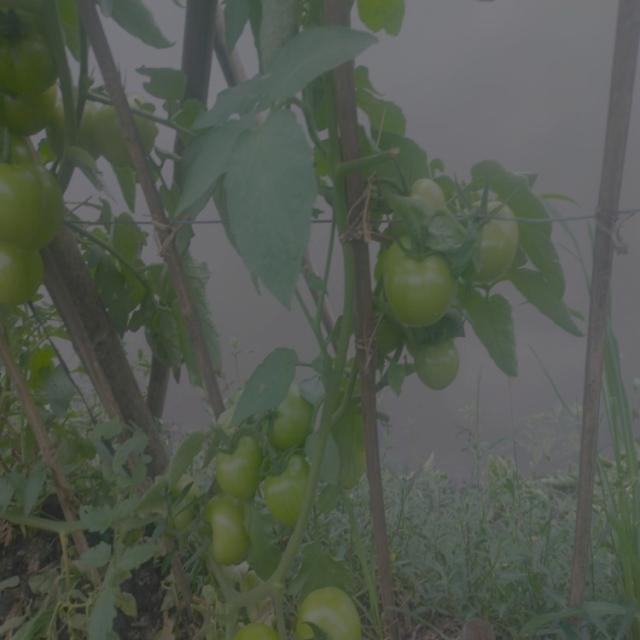tomato: (370, 232, 454, 333), (1, 145, 63, 255), (462, 192, 526, 279), (1, 14, 61, 101), (198, 500, 263, 573), (266, 458, 322, 527), (80, 87, 138, 153), (208, 424, 261, 496), (389, 166, 450, 226), (300, 584, 362, 640), (414, 335, 468, 394), (267, 393, 320, 447), (5, 256, 46, 310), (5, 101, 60, 132), (238, 616, 275, 640)
